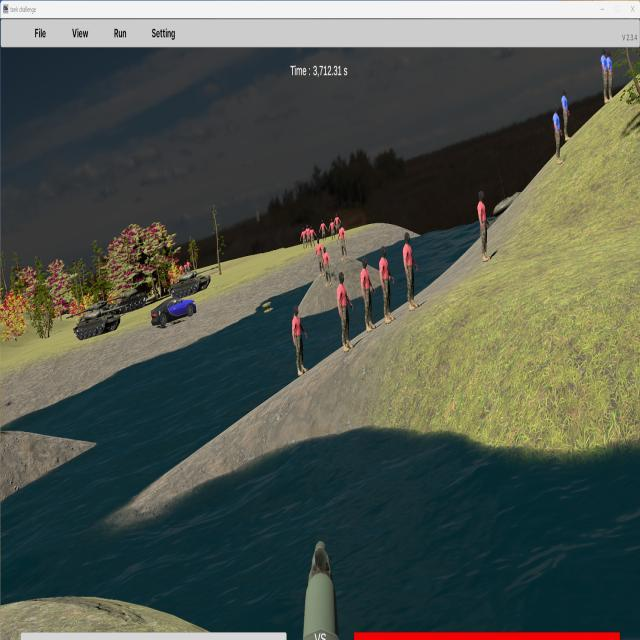Human: (402, 231, 419, 311), (337, 272, 354, 352), (380, 248, 396, 325), (361, 259, 377, 332), (292, 305, 308, 376), (478, 190, 490, 263)
Tank: (67, 303, 126, 341), (170, 264, 221, 298)
car: (151, 296, 196, 327), (151, 297, 196, 327)
